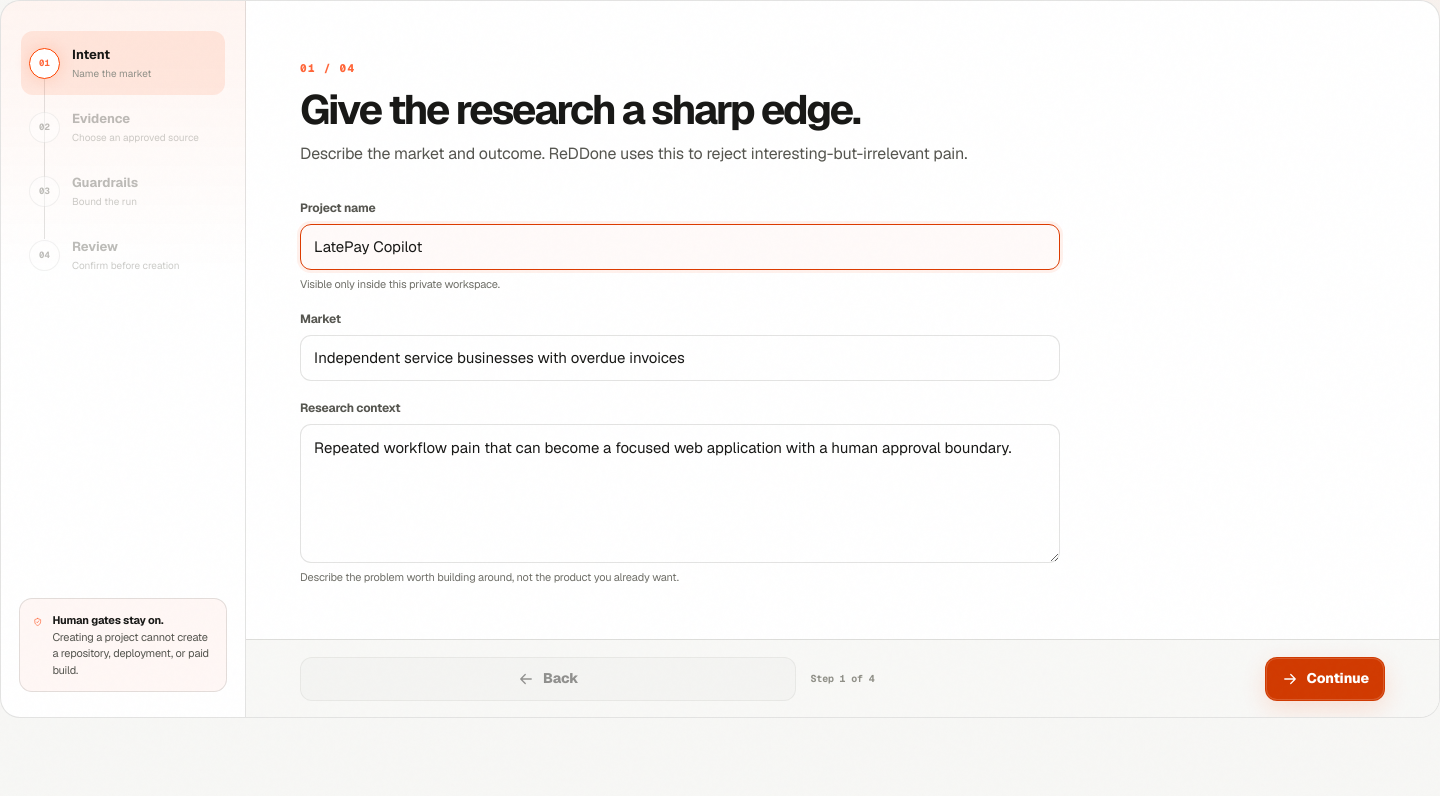
Test: project wizard › loads a pre-run estimate and keeps credits separate from provider USD
Click the button "Continue" at (1325, 679), box [1265,657,1385,701]
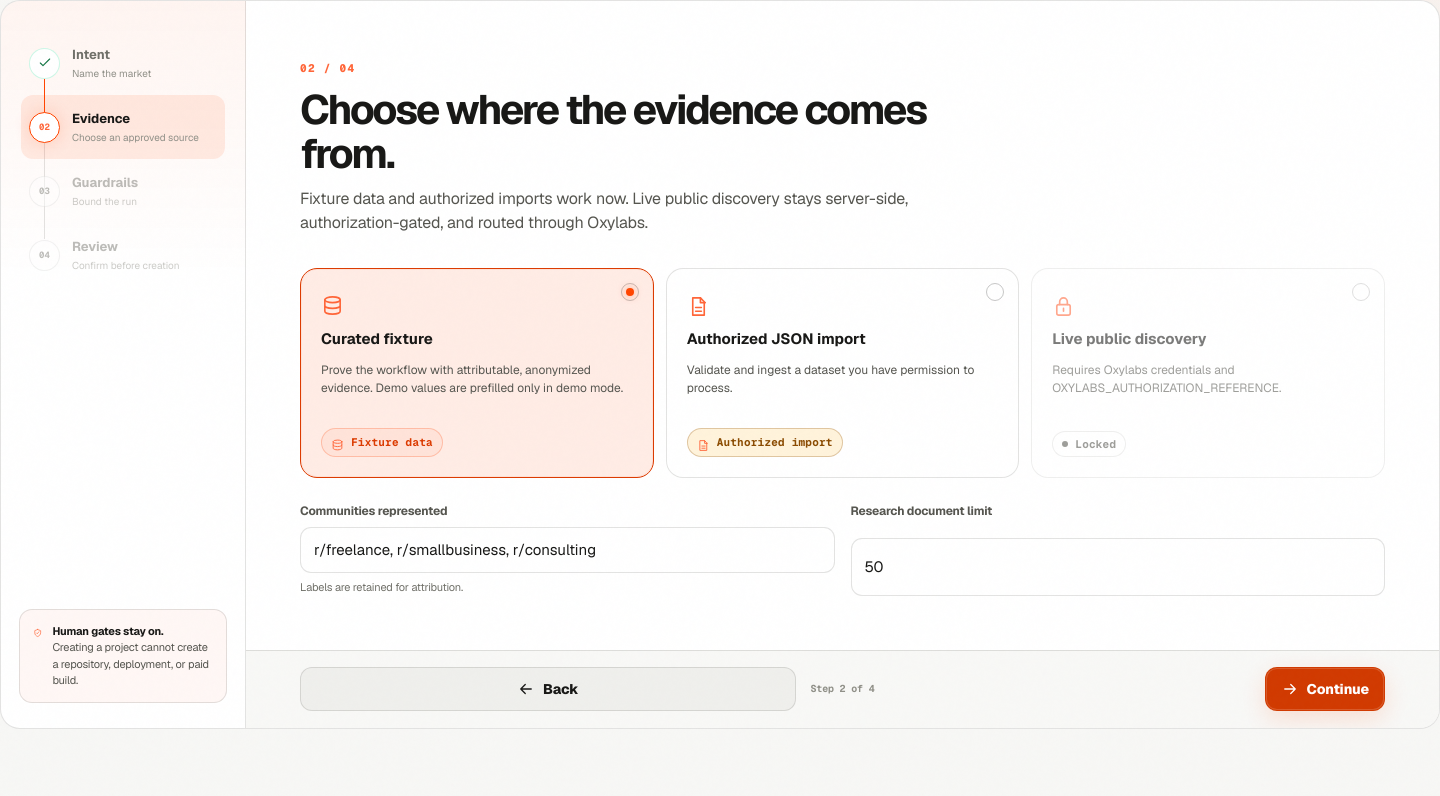
Click the button "Continue" at (1325, 689), box [1265,667,1385,711]
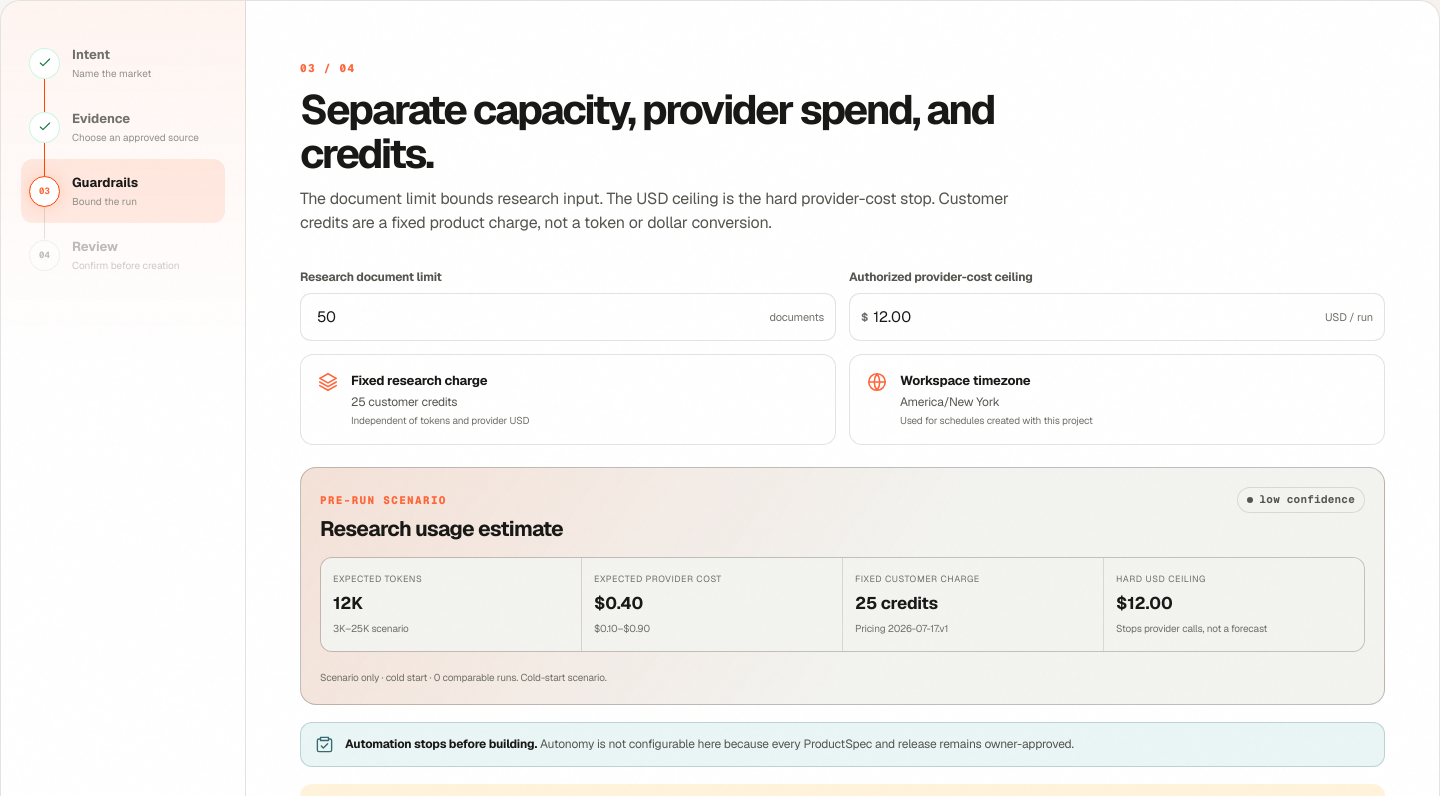
Expected: the heading "Research usage estimate" is shown, [320,516,563,541]
Expected: the text "25 credits" is shown, [855,592,938,614]
Expected: the text "Independent of tokens and provider USD" is shown, [351,413,529,428]
